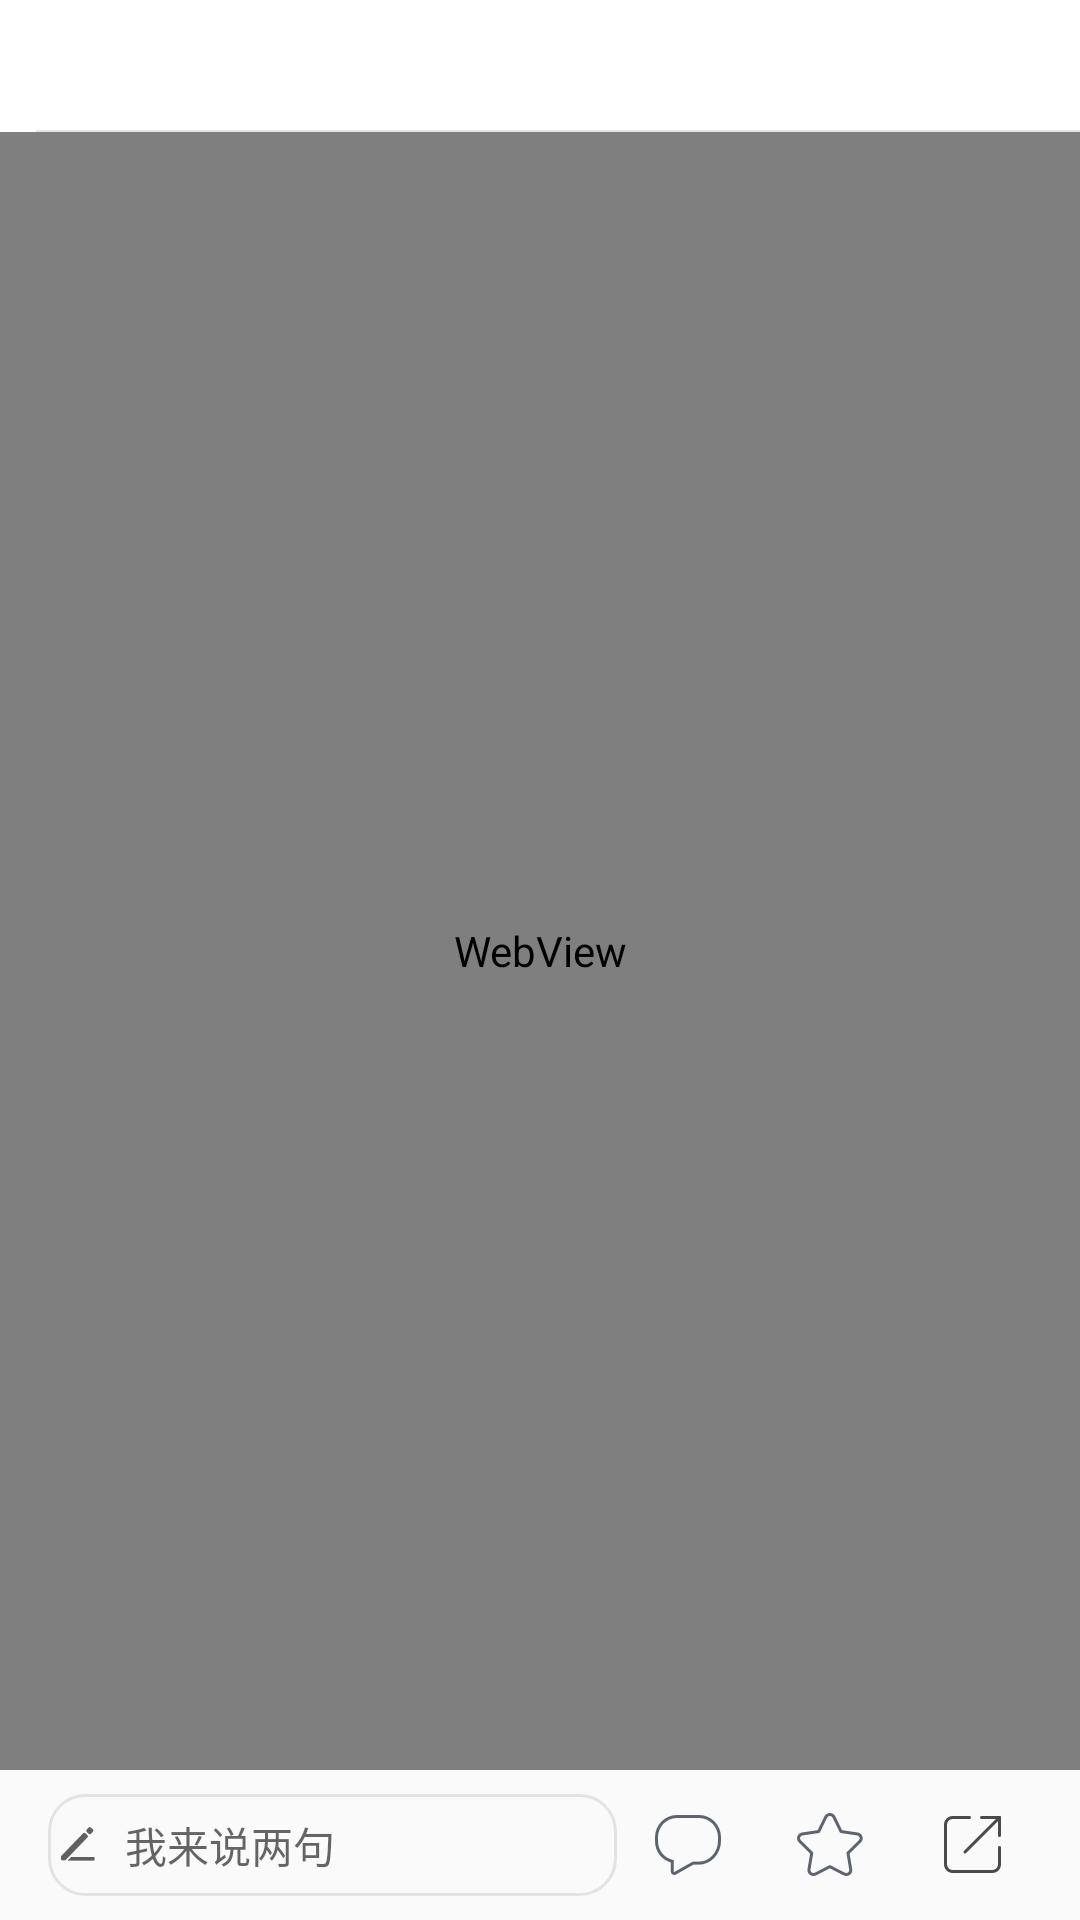

Icon bounding boxes for this 1080px×1920px phone screenshot, format (x1, y1, x2, y2):
collection: (797, 1813, 863, 1876)
news comment: (655, 1815, 721, 1875)
share: (944, 1816, 1001, 1873)
